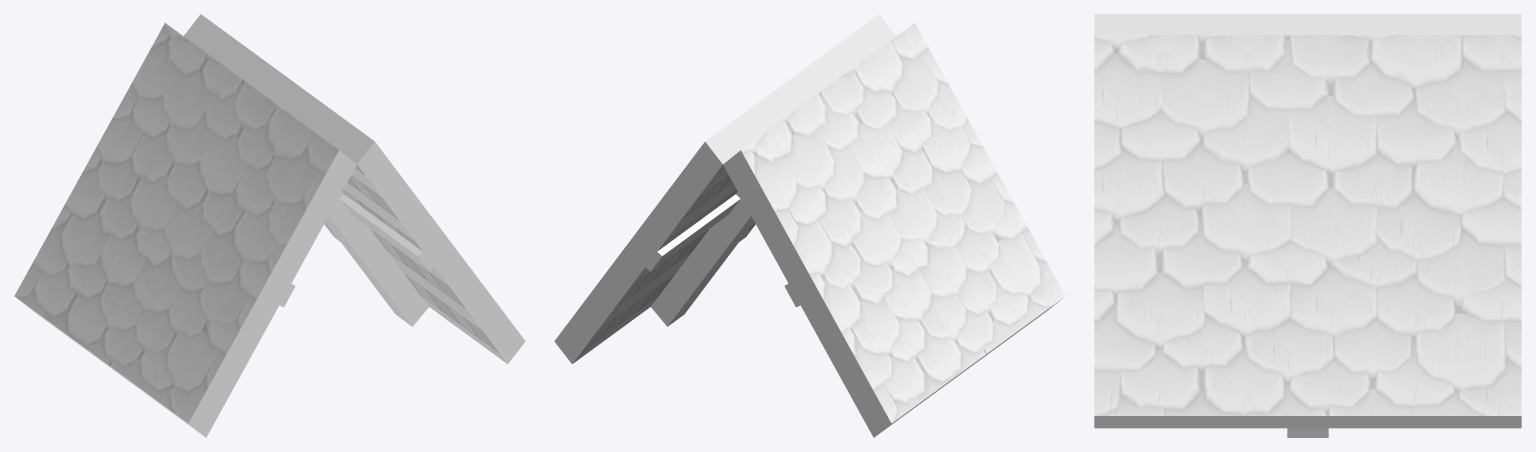
The model's file is ARC0110018.fbx.
3 renders of one model, left to right at view 1: azimuth 30°, elevation 25°; view 2: azimuth 150°, elevation 25°; view 3: azimuth 270°, elevation 25°, orthographic. The views are drawn at different scales.
Visible parts, largest first — view 1: smARC0110018; view 2: smARC0110018; view 3: smARC0110018.
Boxes of the visible parts, x1,y1,x2,y2 form: smARC0110018: (14, 14, 525, 437); smARC0110018: (554, 14, 1065, 437); smARC0110018: (1094, 14, 1521, 437).
Size of what is drawn, in the model's own units: 255 by 196 by 228.
Materials: 1 (1 with a texture image).
